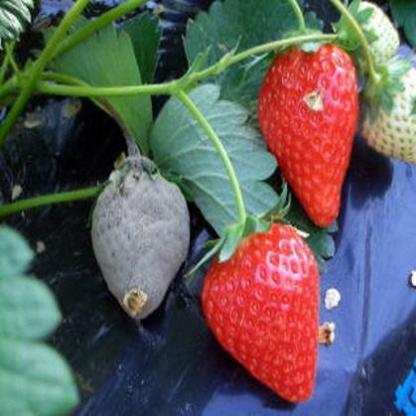Strawberry_Gray_Mold: (90, 157, 192, 320)
